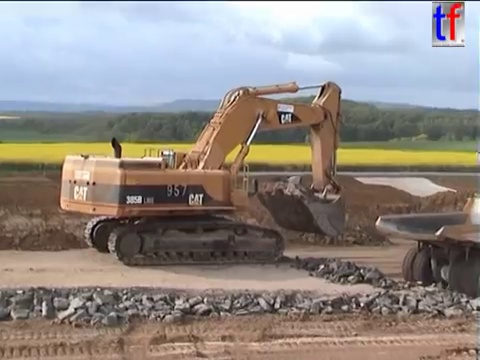excavator: (56, 78, 348, 268)
truck: (372, 194, 480, 306)
